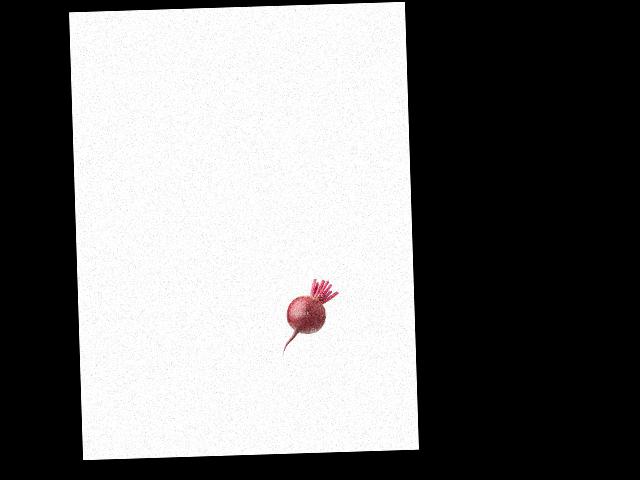beet: (280, 278, 340, 353)
